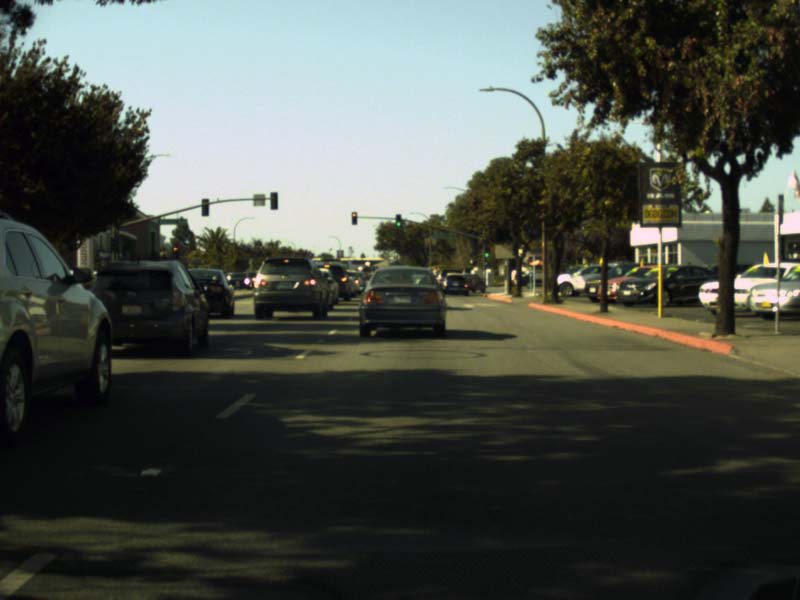Green: (395, 215, 402, 228), (484, 249, 490, 259)
Red: (172, 243, 179, 258), (351, 212, 357, 224)
